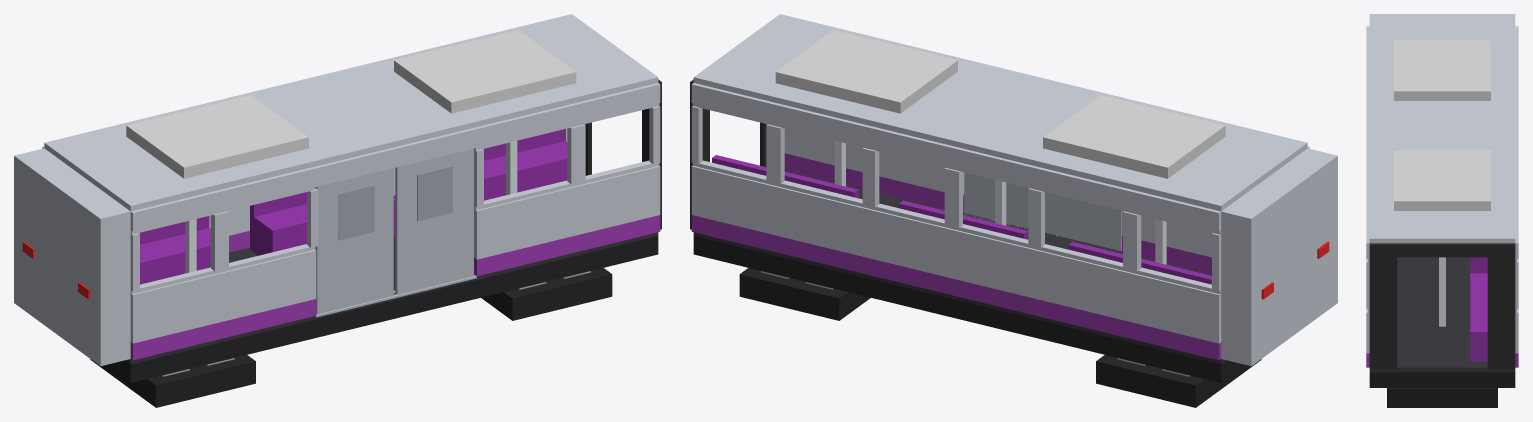
The model's file is metro_wagon_rear_closed_l5.obj.
The picture shows the model from 3 angles, left to right: view 1: azimuth 30°, elevation 25°; view 2: azimuth 150°, elevation 25°; view 3: azimuth 270°, elevation 25°; orthographic projection. The views are drawn at different scales.
Size of the model in its own units: 3.16 by 1.26 by 0.88.
